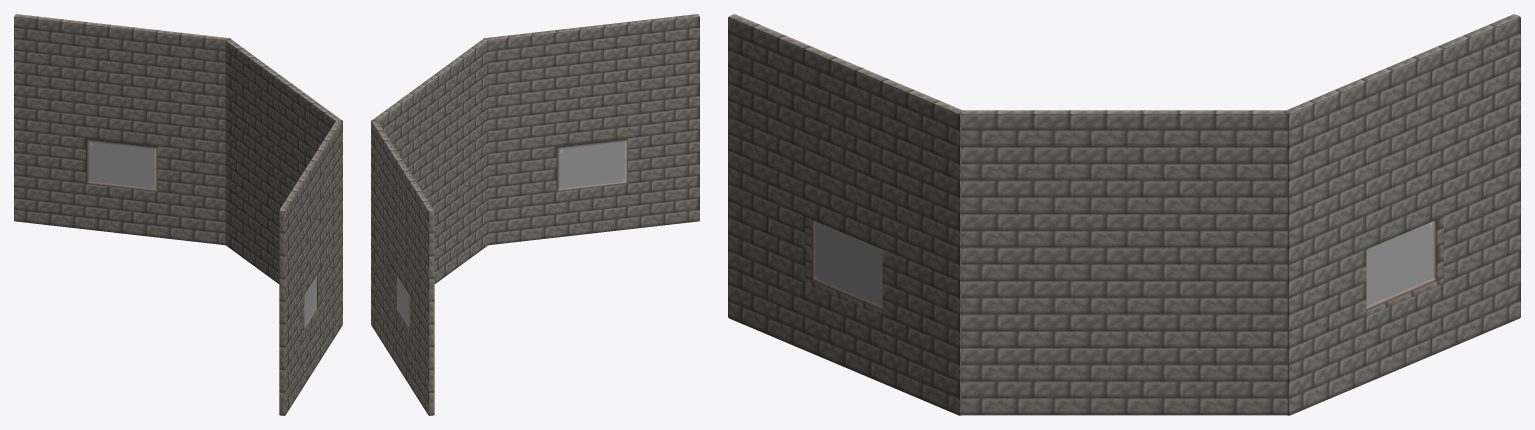
Rendered from Walls.fbx.
The picture shows the model from 3 angles, left to right: view 1: azimuth 30°, elevation 25°; view 2: azimuth 150°, elevation 25°; view 3: azimuth 270°, elevation 25°; orthographic projection. The views are drawn at different scales.
Parts seen in each view (by area): view 1: cube; view 2: cube; view 3: cube.
Part boxes in pixels (x1,y1,x2,y2): cube: [14, 14, 342, 415]; cube: [371, 14, 699, 415]; cube: [728, 14, 1520, 415].
Bounding box in the file's own units: 654 × 912 × 2176.
Materials: 1 (1 with a texture image).
